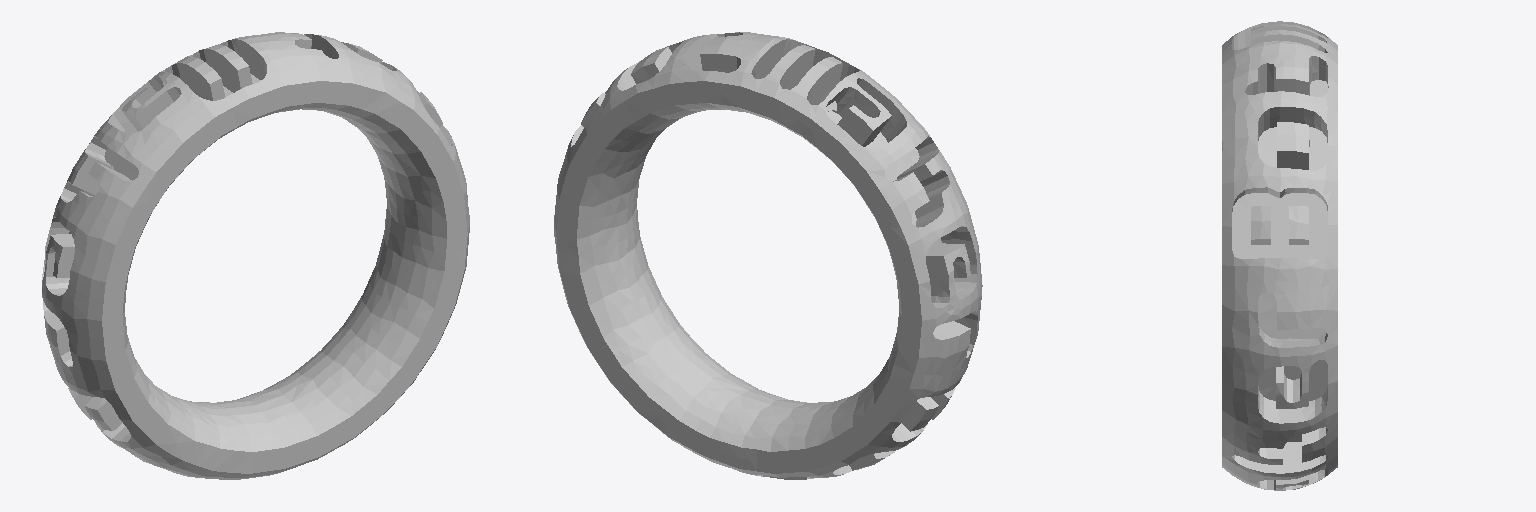
File: makerbot_ring.stl__sf.obj
3 renders of one model, left to right at view 1: azimuth 30°, elevation 25°; view 2: azimuth 150°, elevation 25°; view 3: azimuth 270°, elevation 25°, orthographic.
Size of the model in its own units: 30.03 by 30.04 by 7.4.